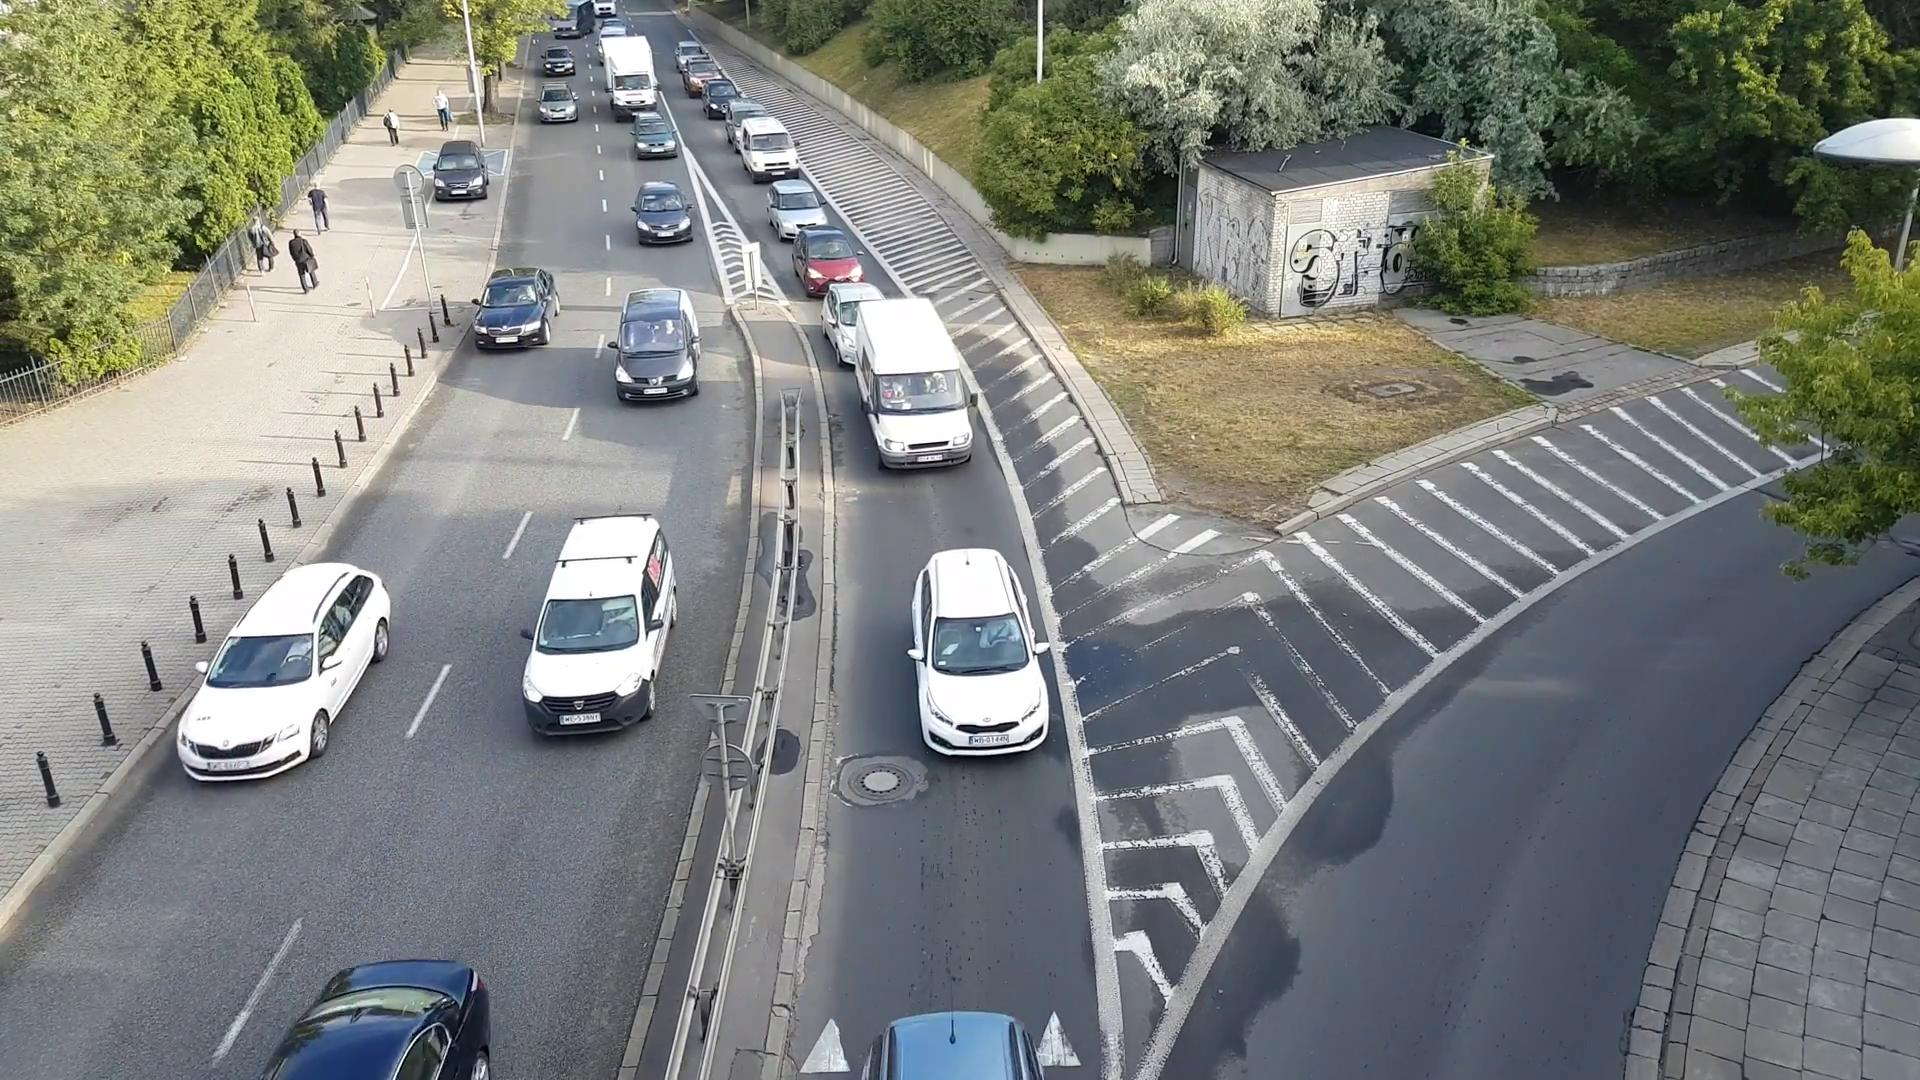car: (166, 551, 396, 789), (518, 505, 679, 742), (902, 543, 1067, 767), (849, 278, 980, 477), (613, 286, 702, 401), (471, 266, 559, 344), (789, 222, 870, 295), (761, 171, 828, 245), (427, 133, 496, 199), (628, 173, 692, 241), (733, 115, 798, 177), (626, 108, 684, 161), (696, 74, 742, 121), (533, 79, 578, 127), (541, 38, 582, 79), (670, 37, 707, 76)
truck: (592, 29, 666, 112)
